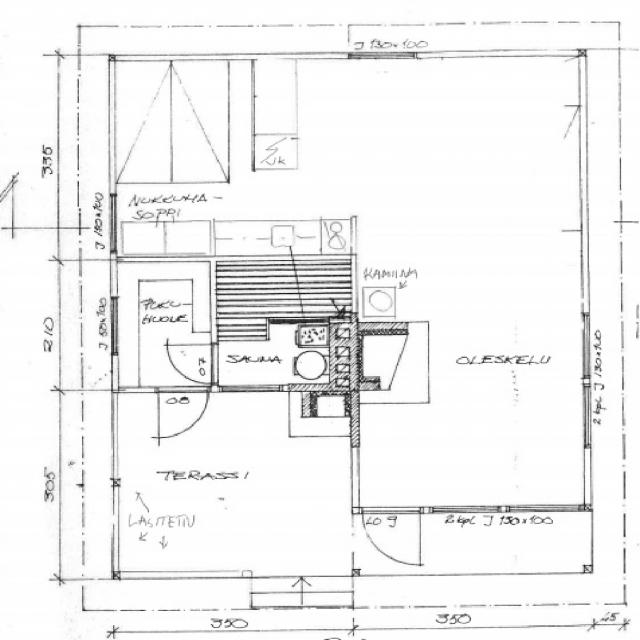door: (362, 504, 420, 562), (158, 385, 207, 435), (167, 344, 216, 383)
